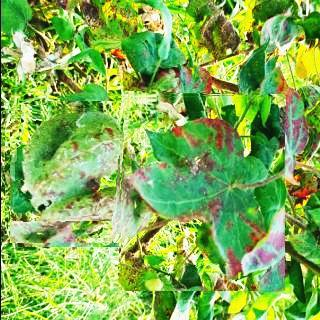blight: (118, 93, 284, 291)
leaf spot: (9, 105, 146, 243)
